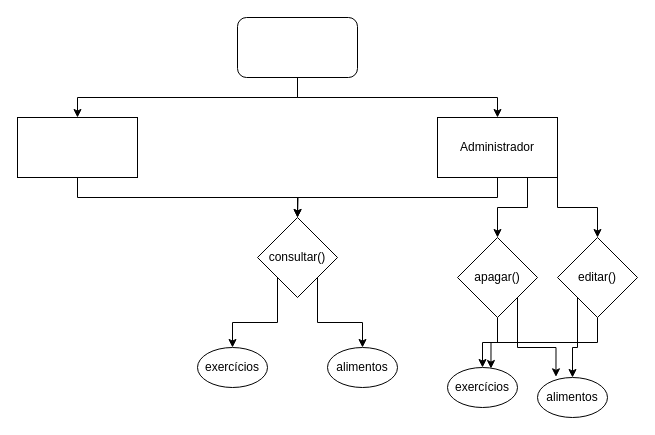
This 655x435 diagram has some shape labels left out. Each missing label, with the centre of its shape:
Básico: the point at 77,147
Utilizadores: the point at 297,47
